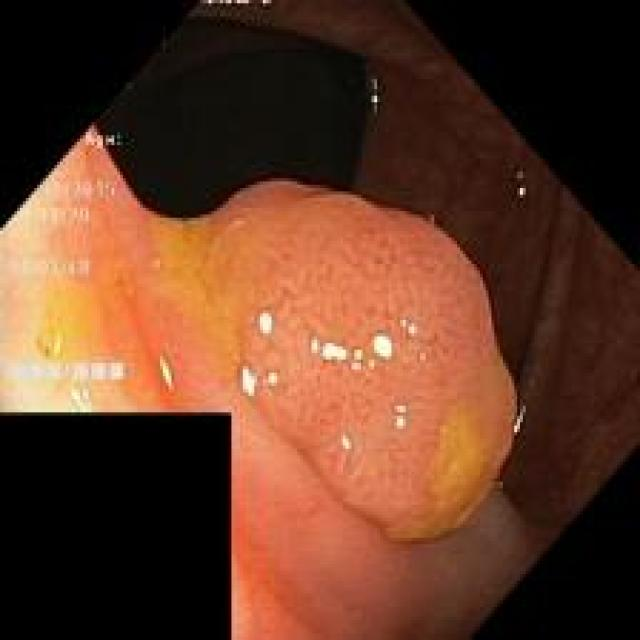Polyps: (209, 195, 515, 542)
